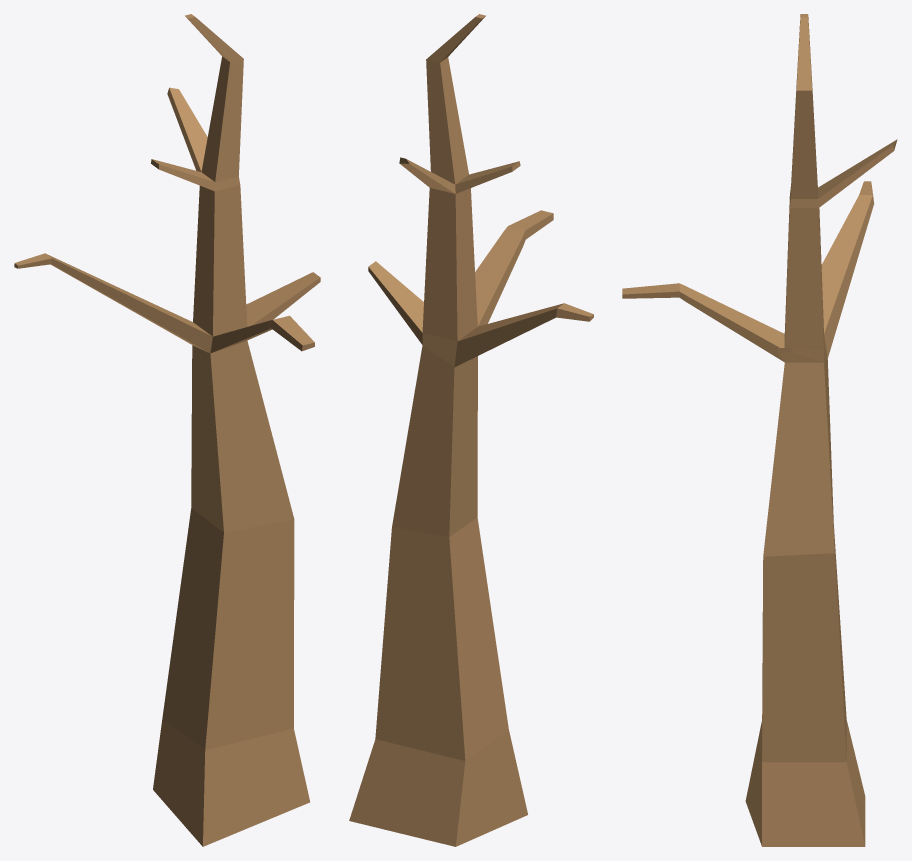
File: Tree4.fbx
3 views of the same model, side by side, from view 1: azimuth 30°, elevation 25°; view 2: azimuth 150°, elevation 25°; view 3: azimuth 270°, elevation 25° (orthographic). The views are drawn at different scales.
Parts seen in each view (by area): view 1: Cube.003; view 2: Cube.003; view 3: Cube.003.
Boxes of the visible parts, left/top/right/bottom form: Cube.003: left=14, top=14, right=320, bottom=846; Cube.003: left=349, top=14, right=593, bottom=846; Cube.003: left=622, top=14, right=897, bottom=846.
Size of the model in its own units: 697 by 2071 by 651.
